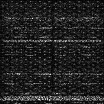lte: (1, 95, 104, 101), (1, 39, 104, 43)
